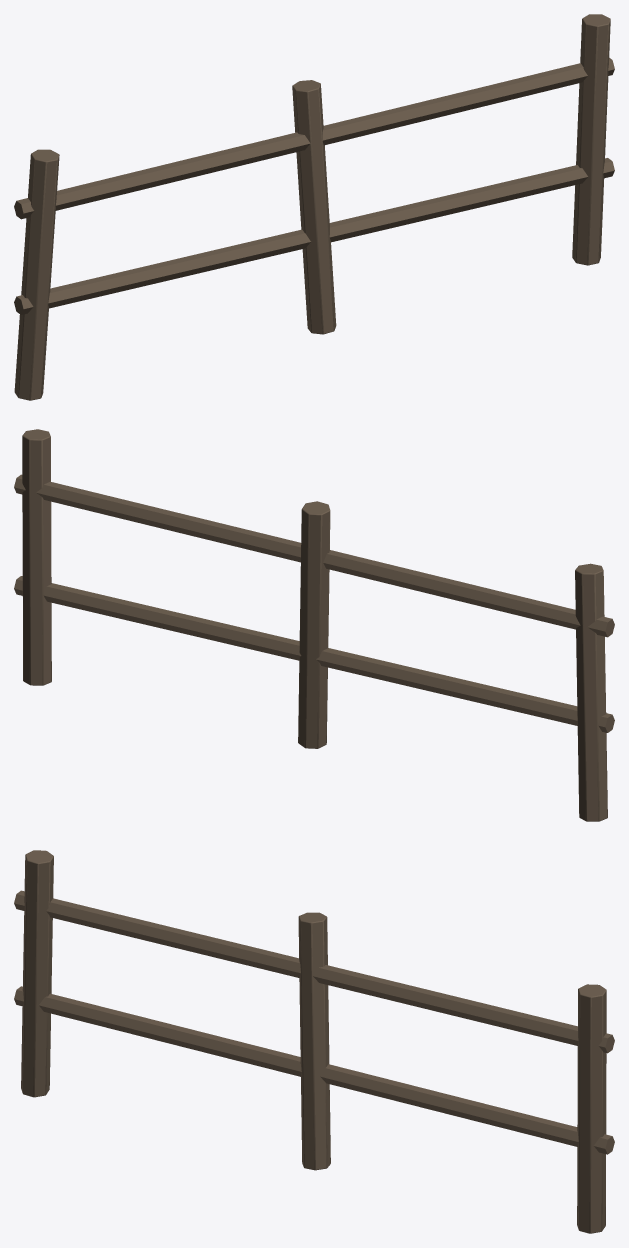
File: Scenery_Fence.fbx
The picture shows the model from 3 angles, top to bottom: view 1: azimuth 30°, elevation 25°; view 2: azimuth 150°, elevation 25°; view 3: azimuth 330°, elevation 25°; orthographic projection.
Visible parts, largest first — view 1: Scenery_Fence_Mesh; view 2: Scenery_Fence_Mesh; view 3: Scenery_Fence_Mesh.
Boxes of the visible parts, <box> form: Scenery_Fence_Mesh: <box>14,14,614,400</box>; Scenery_Fence_Mesh: <box>14,429,614,821</box>; Scenery_Fence_Mesh: <box>14,850,614,1233</box>.
Bounding box in the file's own units: 3.2 × 1.26 × 0.1887.
